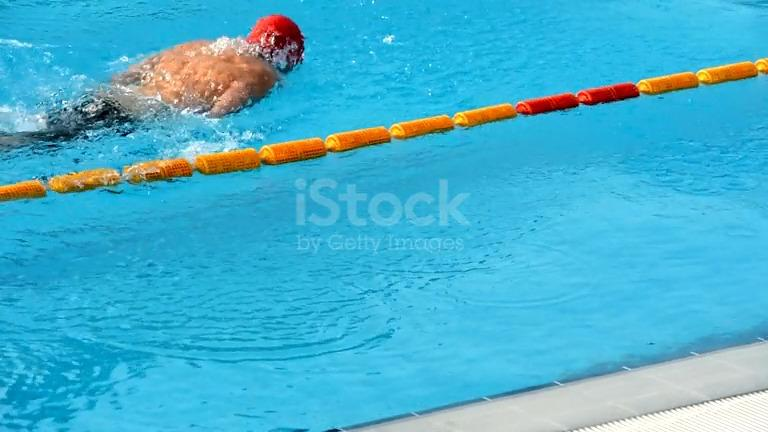Swimming: (1, 12, 307, 153)
